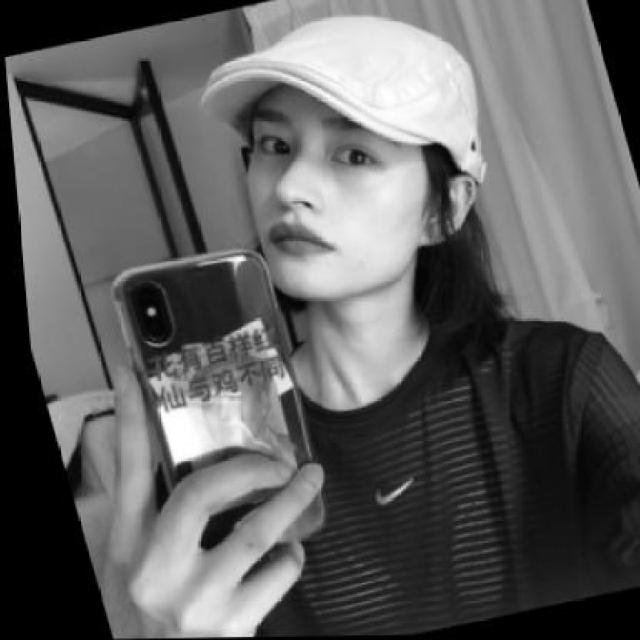hat: (198, 15, 487, 181)
